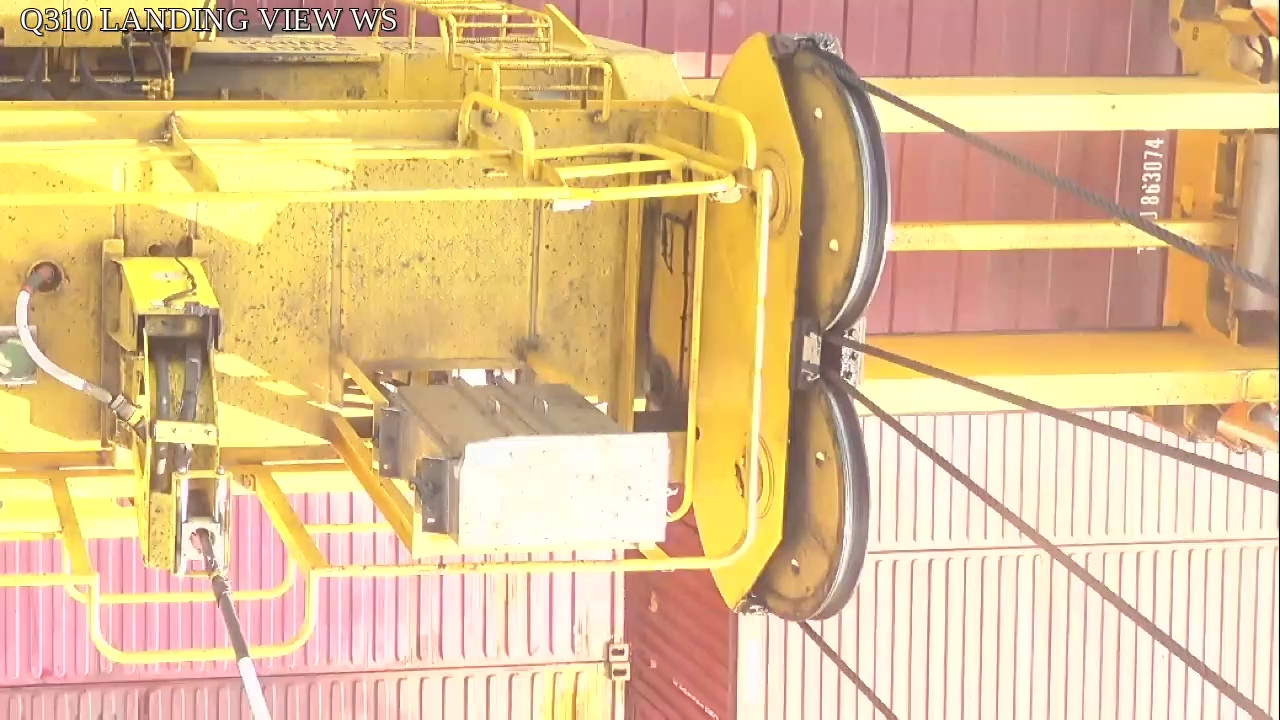right: (702, 33, 893, 632)
